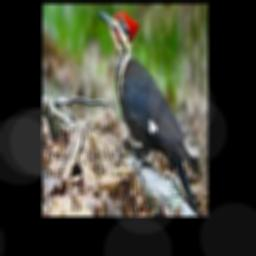Woodpecker: (98, 11, 201, 216)
